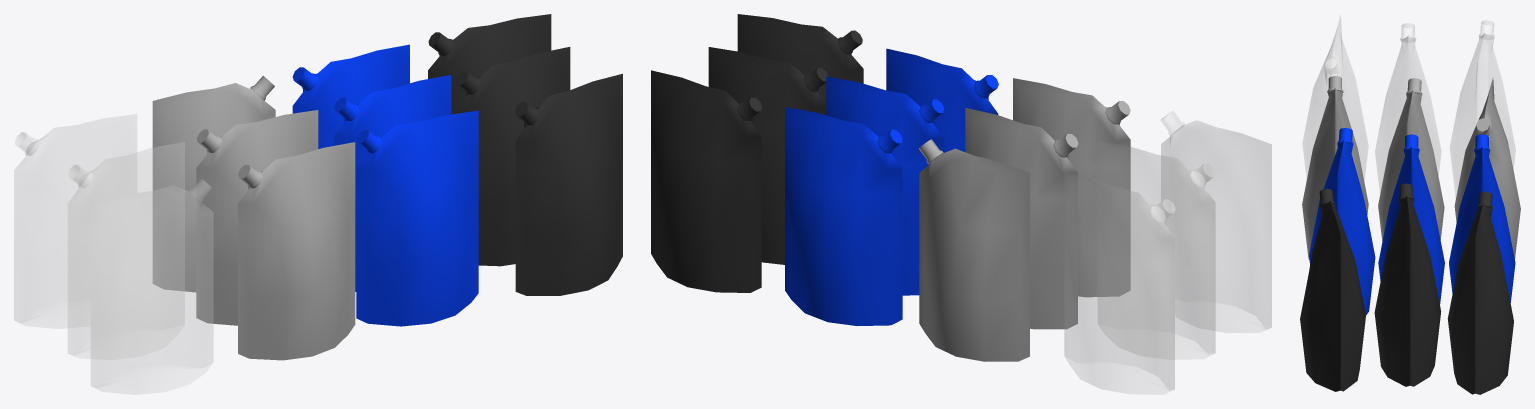
File: Sugar_ffc568_Pack01.fbx
3 views of the same model, side by side, from view 1: azimuth 30°, elevation 25°; view 2: azimuth 150°, elevation 25°; view 3: azimuth 270°, elevation 25° (orthographic). The views are drawn at different scales.
Visible parts, largest first — view 1: Sugar_ffc568_Pack01; view 2: Sugar_ffc568_Pack01; view 3: Sugar_ffc568_Pack01.
Part boxes in pixels (x1=…): Sugar_ffc568_Pack01: x1=14, y1=14, x2=622, y2=394; Sugar_ffc568_Pack01: x1=651, y1=14, x2=1271, y2=394; Sugar_ffc568_Pack01: x1=1300, y1=15, x2=1520, y2=394.
Size of the model in its own units: 57.75 by 19.7 by 24.07.
